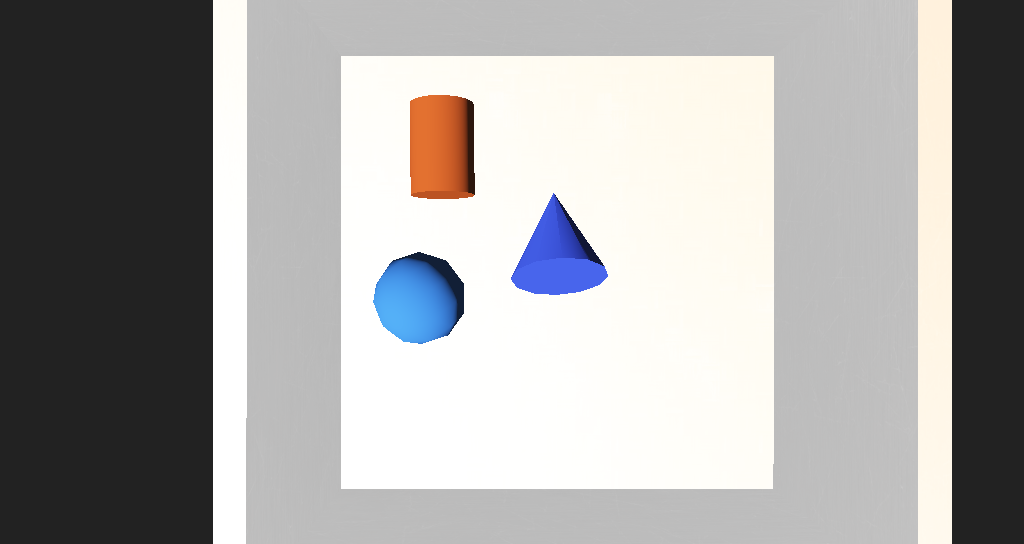cone: (397, 184, 451, 236)
cylinder: (475, 215, 536, 282)
sphere: (381, 260, 441, 303)
